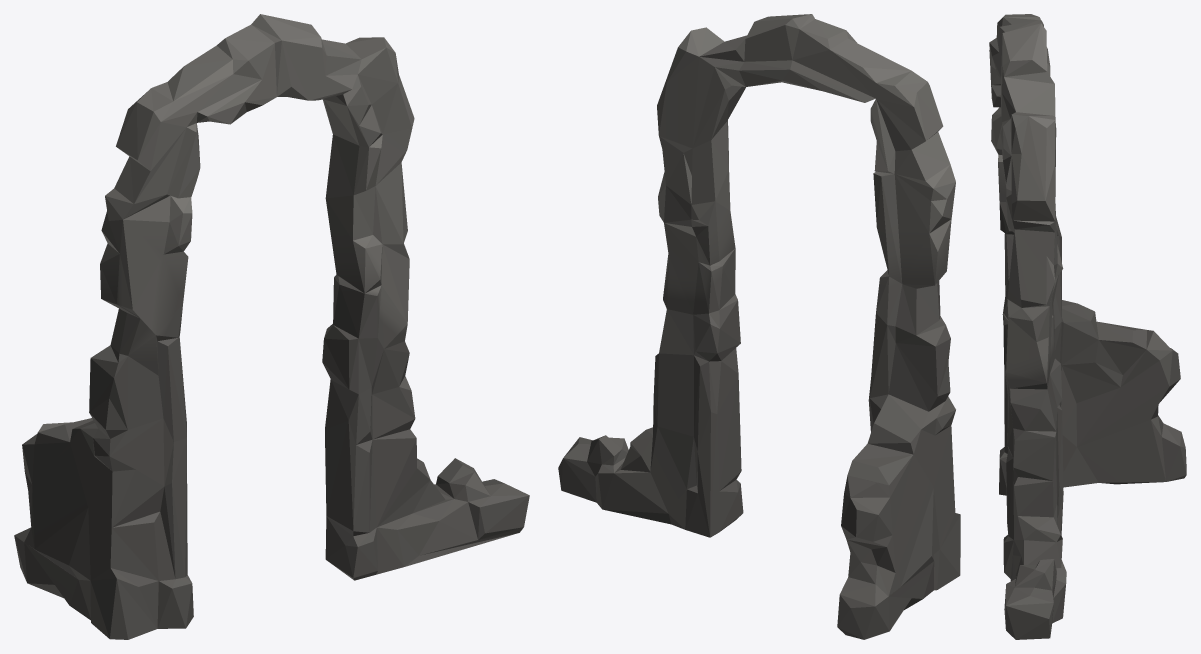
The model's file is crypt_ruin_heap.gltf.
The picture shows the model from 3 angles, left to right: view 1: azimuth 30°, elevation 25°; view 2: azimuth 150°, elevation 25°; view 3: azimuth 270°, elevation 25°; orthographic projection. The views are drawn at different scales.
Parts seen in each view (by area): view 1: crypt_ruin_heap; view 2: crypt_ruin_heap; view 3: crypt_ruin_heap.
Boxes of the visible parts, x1=… form: crypt_ruin_heap: x1=14, y1=14, x2=529, y2=639; crypt_ruin_heap: x1=558, y1=14, x2=960, y2=639; crypt_ruin_heap: x1=989, y1=14, x2=1186, y2=639.
Size of the model in its own units: 4.18 by 5.46 by 1.9.
Materials: 1 (1 with a texture image).
